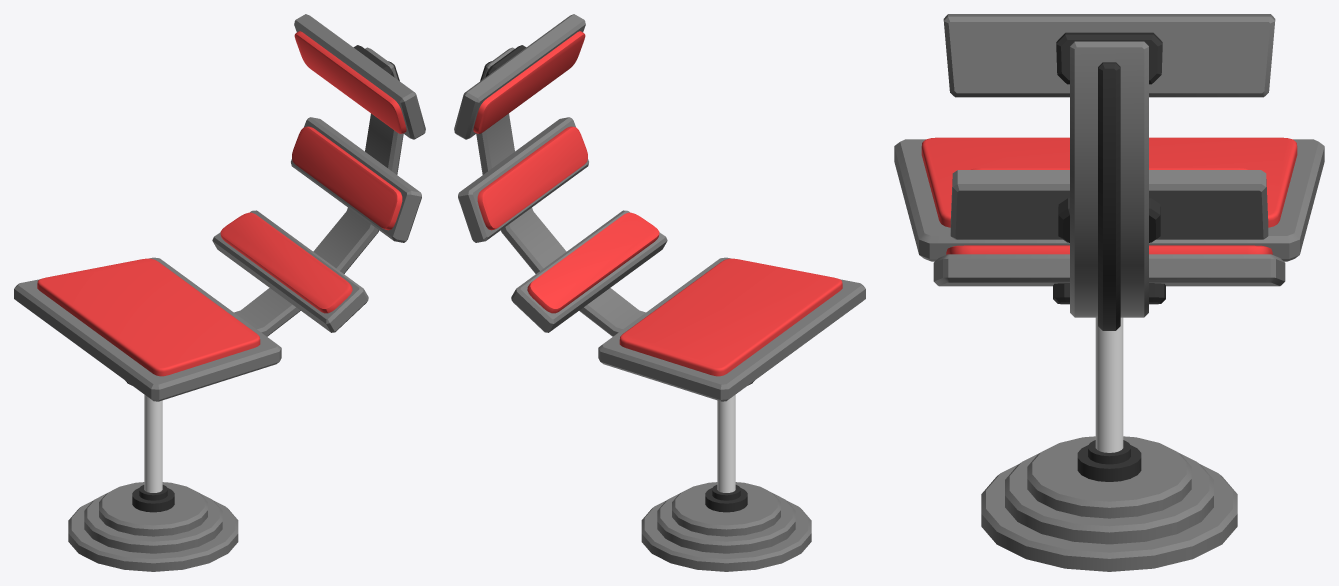
Rendered from Chair.fbx.
The picture shows the model from 3 angles, left to right: view 1: azimuth 30°, elevation 25°; view 2: azimuth 150°, elevation 25°; view 3: azimuth 270°, elevation 25°; orthographic projection. The views are drawn at different scales.
Visible parts, largest first — view 1: Object006; view 2: Object006; view 3: Object006.
Part boxes in pixels (left/top/right/bottom): Object006: left=14, top=14, right=425, bottom=571; Object006: left=454, top=14, right=865, bottom=571; Object006: left=894, top=14, right=1324, bottom=571.
Bounding box in the file's own units: 6.01 × 7.63 × 4.57.
